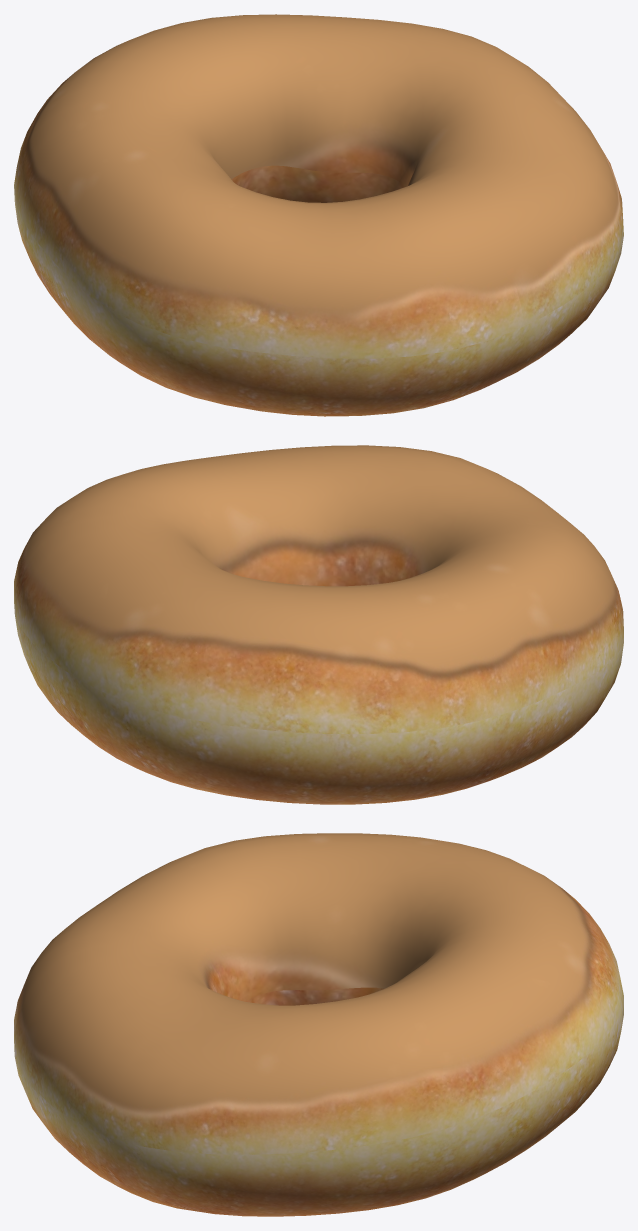
The model's file is Donut10.obj.
The picture shows the model from 3 angles, top to bottom: view 1: azimuth 30°, elevation 25°; view 2: azimuth 150°, elevation 25°; view 3: azimuth 270°, elevation 25°; orthographic projection.
Parts seen in each view (by area): view 1: donut080; view 2: donut080; view 3: donut080.
Part boxes in pixels (bbox=[...]): donut080: bbox=[14, 14, 623, 416]; donut080: bbox=[14, 445, 623, 804]; donut080: bbox=[14, 833, 623, 1216].
Size of the model in its own units: 9.35 by 3.88 by 9.66.
Materials: 1 (1 with a texture image).
